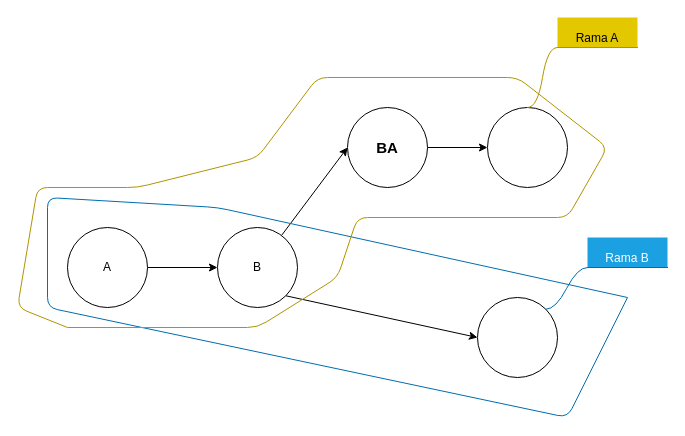
This 685x436 diagram has some shape labels left out. Here are the shapes that lost their labels. From the top down, the centre of each, then its label:
point 527,147: BC
point 517,337: BB
